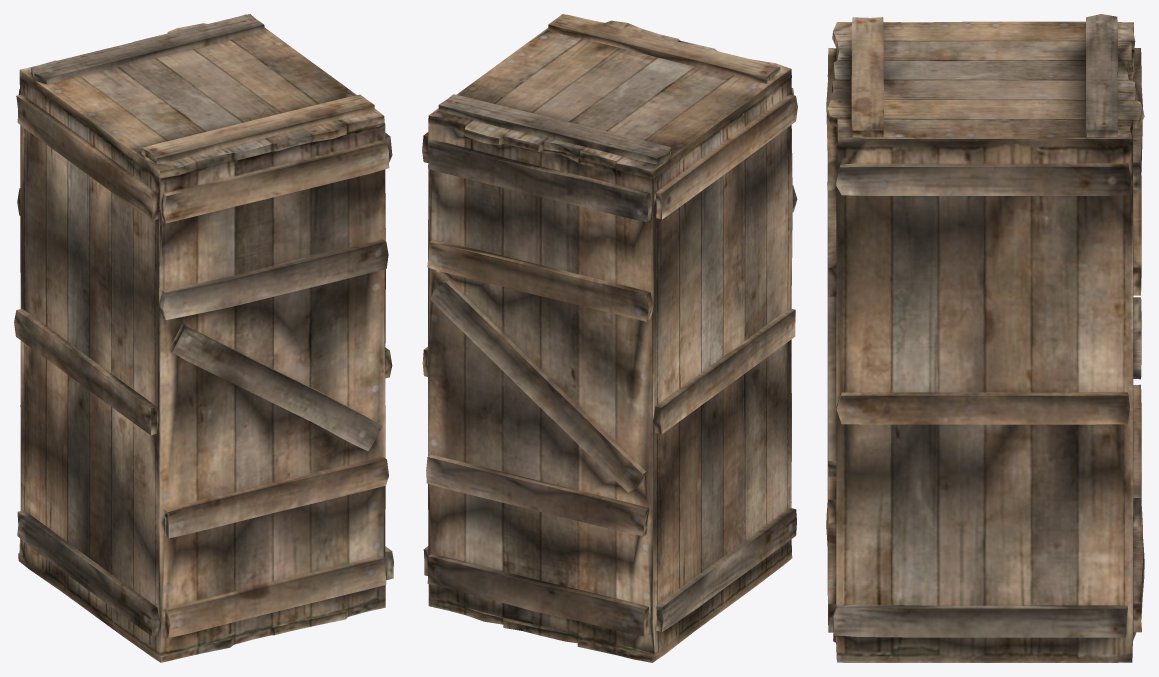
Rendered from wooden_box_03.glb.
3 renders of one model, left to right at view 1: azimuth 30°, elevation 25°; view 2: azimuth 150°, elevation 25°; view 3: azimuth 270°, elevation 25°, orthographic. The views are drawn at different scales.
Parts seen in each view (by area): view 1: wooden_box_03; view 2: wooden_box_03; view 3: wooden_box_03.
Part boxes in pixels (bbox=[...]): wooden_box_03: bbox=[14, 14, 393, 662]; wooden_box_03: bbox=[422, 14, 797, 662]; wooden_box_03: bbox=[826, 14, 1144, 662].
Size of what is drawn, in the model's own units: 0.3112 by 0.6206 by 0.3361.
Materials: 1 (1 with a texture image).
